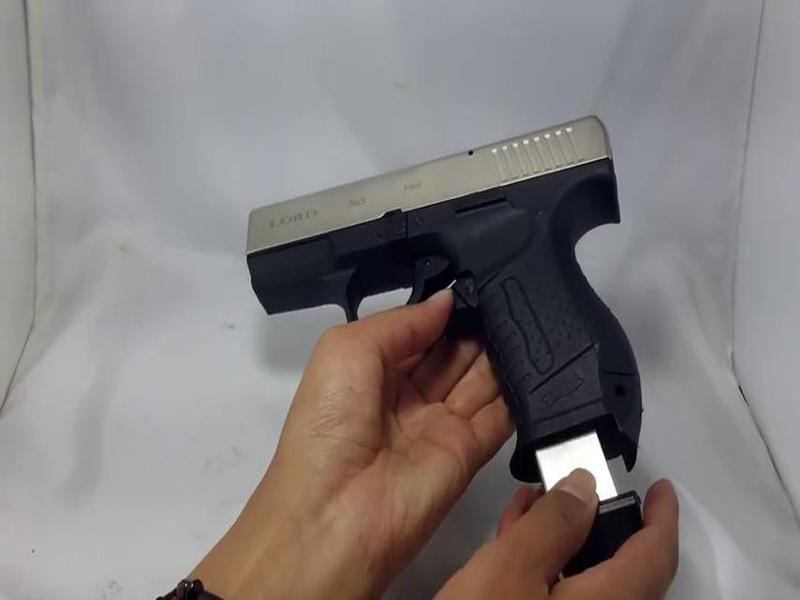Pistola: (224, 110, 670, 474)
